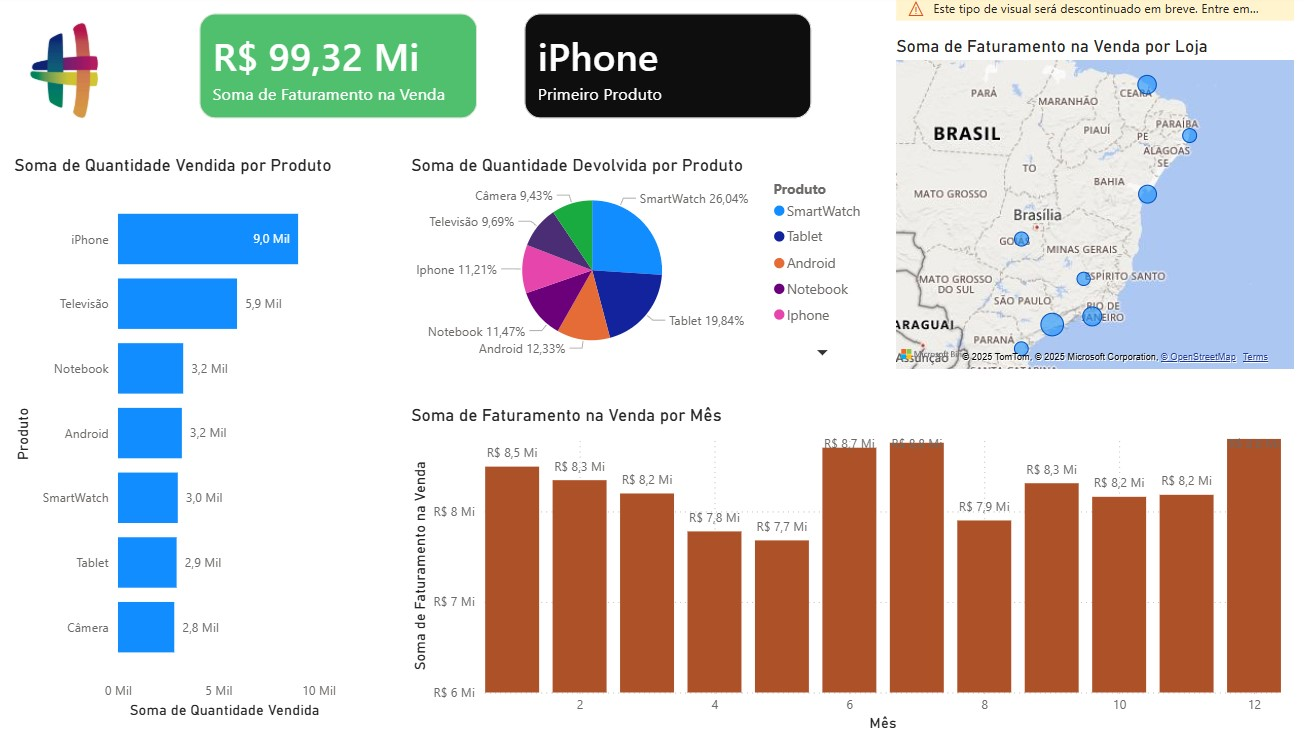

The page's visual inventory and layout, read from the dashboard file:
{"tool":"powerbi","page":{"name":"Relatório Consolidado","canvas":[1280,720],"ordinal":0},"visuals":[{"type":"image","box":[11.9,0,116.8,144.5],"z":0},{"type":"barChart","fields":{"Y":["Sum(Base Vendas.Quantidade Vendida)"],"Category":["Base Vendas.Produto"]},"box":[11.9,154.4,335.5,552.2],"z":1000},{"type":"cardVisual","fields":{"Data":["Sum(Base Vendas.Faturamento na Venda)"]},"box":[180.1,0,304.8,136.6],"z":2000},{"type":"cardVisual","fields":{"Data":["select","Min(Base Vendas.Produto)"]},"box":[495.8,0,313.7,136.6],"z":3000},{"type":"columnChart","fields":{"Y":["Sum(Base Vendas.Faturamento na Venda)"],"Category":["Base Vendas.Mês"]},"box":[397.9,397.9,856.1,322.6],"z":4000},{"type":"pieChart","fields":{"Y":["Sum(Base Devoluções.Quantidade Devolvida)"],"Category":["Base Devoluções.Produto"]},"box":[397.8,154.7,456.2,205.2],"z":5000},{"type":"map","fields":{"Category":["Base Vendas.Loja"],"Size":["Sum(Base Vendas.Faturamento na Venda)"]},"box":[869.9,0,396.9,368.2],"z":6000}]}

Visuals, with their boxes in screenshot pixels (x1, y1, x2, y2), scaled from the page's 1280x720 canvas onto the 1304x734 screenshot:
image: <box>12,0,131,147</box>
barChart - Sum(Base Vendas.Quantidade Vendida) x Base Vendas.Produto: <box>12,157,354,720</box>
cardVisual - Sum(Base Vendas.Faturamento na Venda): <box>183,0,494,139</box>
cardVisual - select x Min(Base Vendas.Produto): <box>505,0,825,139</box>
columnChart - Sum(Base Vendas.Faturamento na Venda) x Base Vendas.Mês: <box>405,406,1278,733</box>
pieChart - Sum(Base Devoluções.Quantidade Devolvida) x Base Devoluções.Produto: <box>405,158,870,367</box>
map - Base Vendas.Loja x Sum(Base Vendas.Faturamento na Venda): <box>886,0,1291,375</box>
